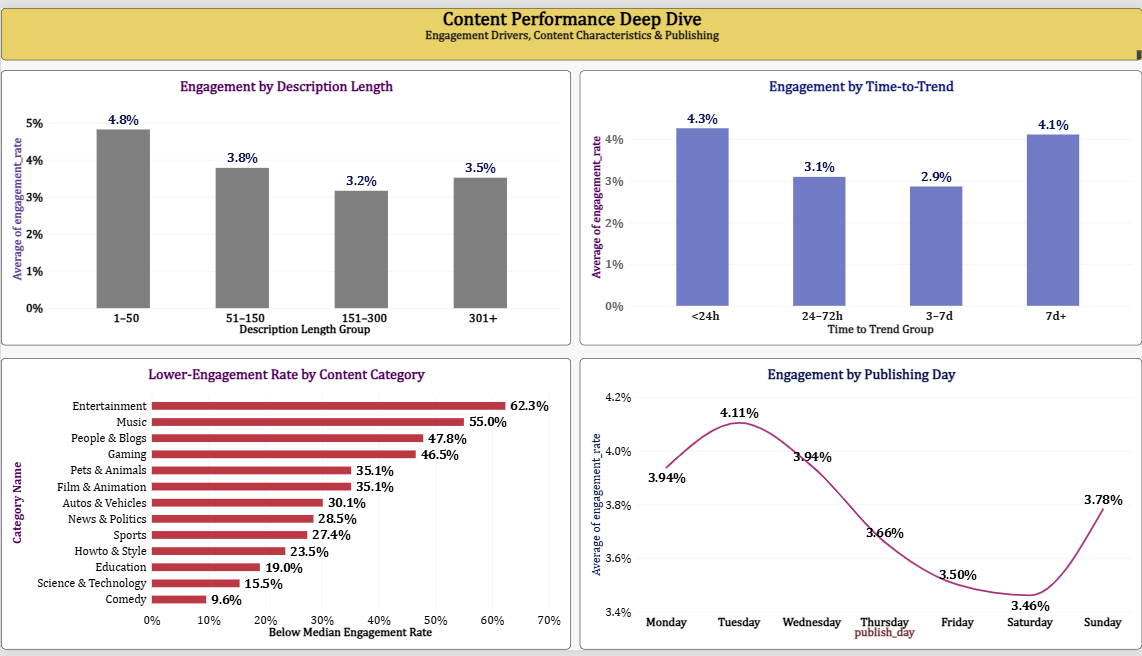

What the dashboard file says about the page in this screenshot:
{"tool":"powerbi","page":{"name":"Page 2","canvas":[1920,1080],"ordinal":1},"visuals":[{"type":"textbox","title":"Content Performance Deep Dive","box":[0,0,1920.4,88.3],"z":0},{"type":"clusteredColumnChart","title":"Engagement by Description Length","fields":{"Category":["videos_fact.Description Length Group"],"Y":["Avg(videos_fact.engagement_rate)"]},"box":[0,105.2,959.2,462.8],"z":1},{"type":"clusteredColumnChart","title":"Engagement by Time-to-Trend","fields":{"Category":["videos_fact.Time to Trend Group"],"Y":["Avg(videos_fact.engagement_rate)"]},"box":[973.9,105.2,946.5,462.8],"z":2},{"type":"clusteredBarChart","title":"Lower-Engagement Rate by Content Category","fields":{"Category":["videos_fact.Category Name"],"Y":["videos_fact.Below Median Engagement Rate"]},"box":[0,589,959.2,490.1],"z":3},{"type":"lineChart","title":"Engagement by Publishing Day","fields":{"Category":["videos_fact.publish_day"],"Y":["Avg(videos_fact.engagement_rate)"]},"box":[973.9,589,946.5,490.1],"z":4}]}

Visuals, with their boxes in screenshot pixels (x1, y1, x2, y2), scaled from the page's 1920x1080 canvas onto the 1142x656 screenshot:
"Content Performance Deep Dive" textbox: bbox(0, 0, 1141, 54)
"Engagement by Description Length" clusteredColumnChart: bbox(0, 64, 571, 345)
"Engagement by Time-to-Trend" clusteredColumnChart: bbox(579, 64, 1141, 345)
"Lower-Engagement Rate by Content Category" clusteredBarChart: bbox(0, 358, 571, 655)
"Engagement by Publishing Day" lineChart: bbox(579, 358, 1141, 655)
